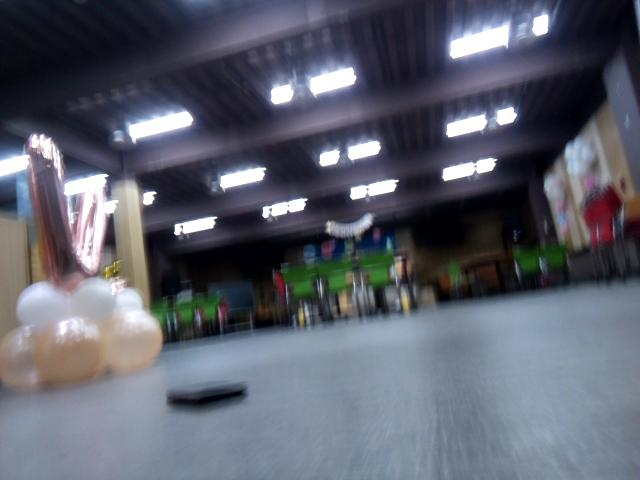wallet: (158, 377, 255, 417)
